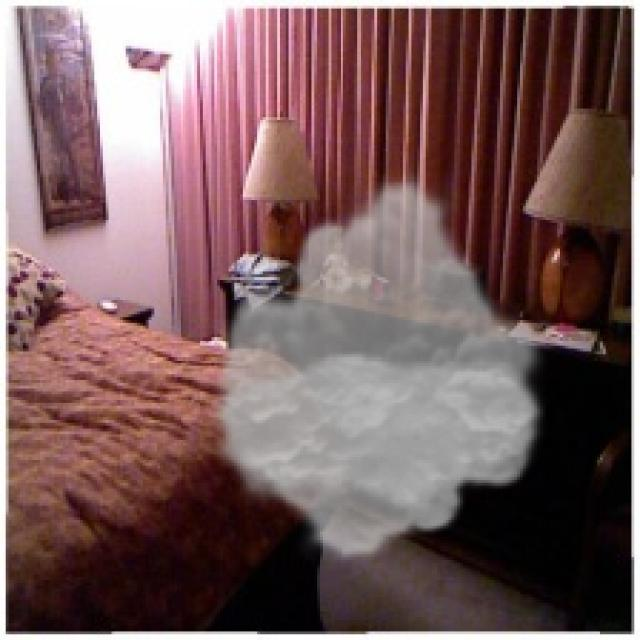smoke: (206, 171, 551, 563)
